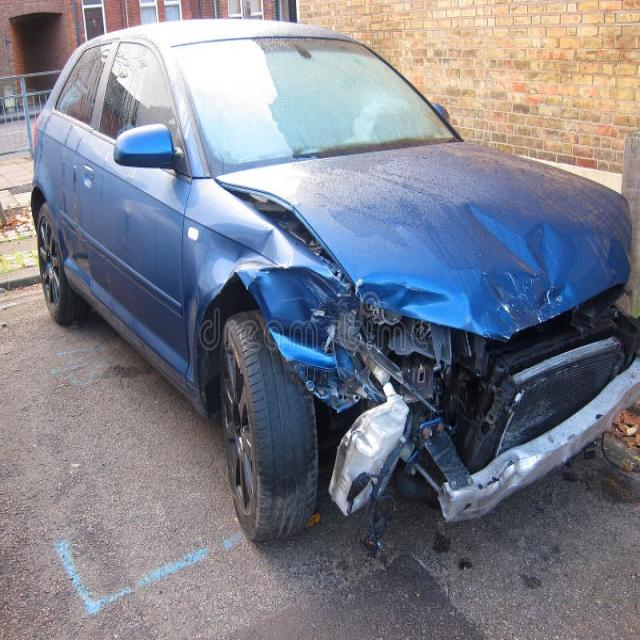crush: (183, 148, 640, 559)
